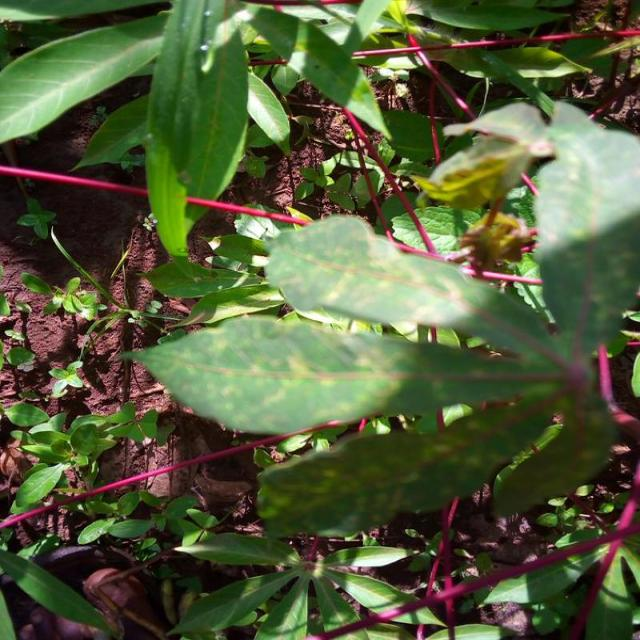cassava leaf: (532, 98, 638, 359), (143, 0, 249, 258)
